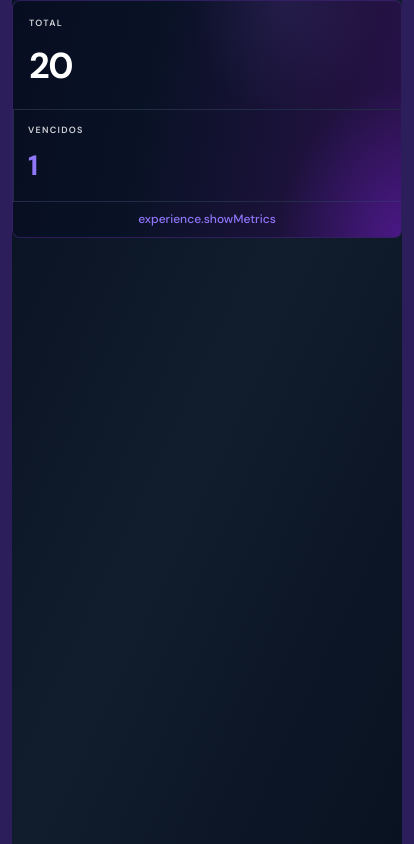
Scenario: indicadores sem conclusões implícitas › resumo móvel preserva total e alerta relevante, com expansão acessível
The width and height of the screenshot is (414, 844).
What coordinates should you click on to do the following:
click the button "experience.showMetrics"
I would click on:
 (207, 219)
Its box is [13,201,401,237].
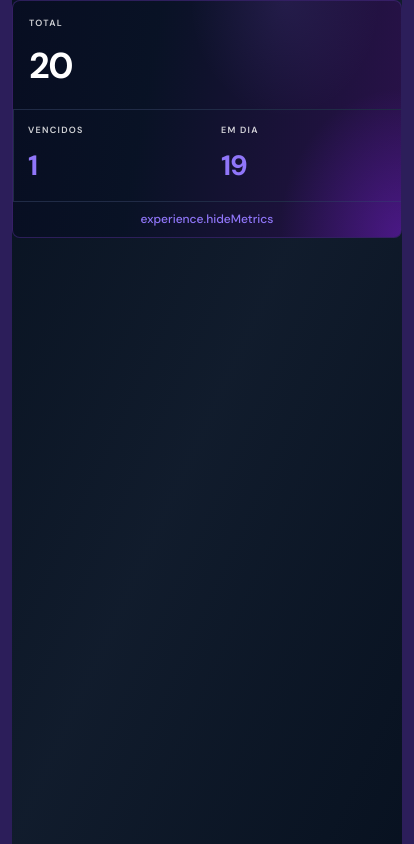
Result: the button "experience.hideMetrics" is expanded at [13,201,401,237]
